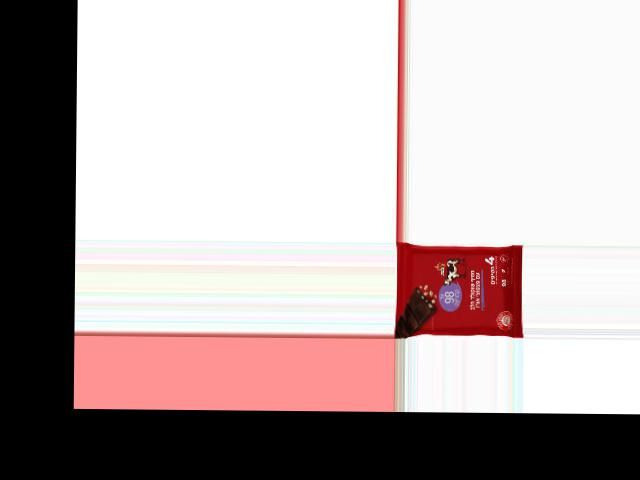chocolate: (396, 242, 524, 335)
